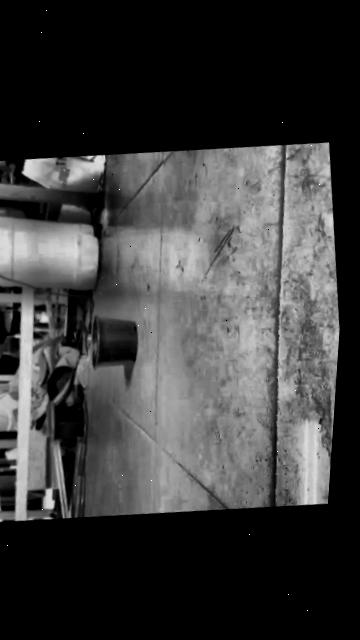pot: (83, 308, 140, 372)
